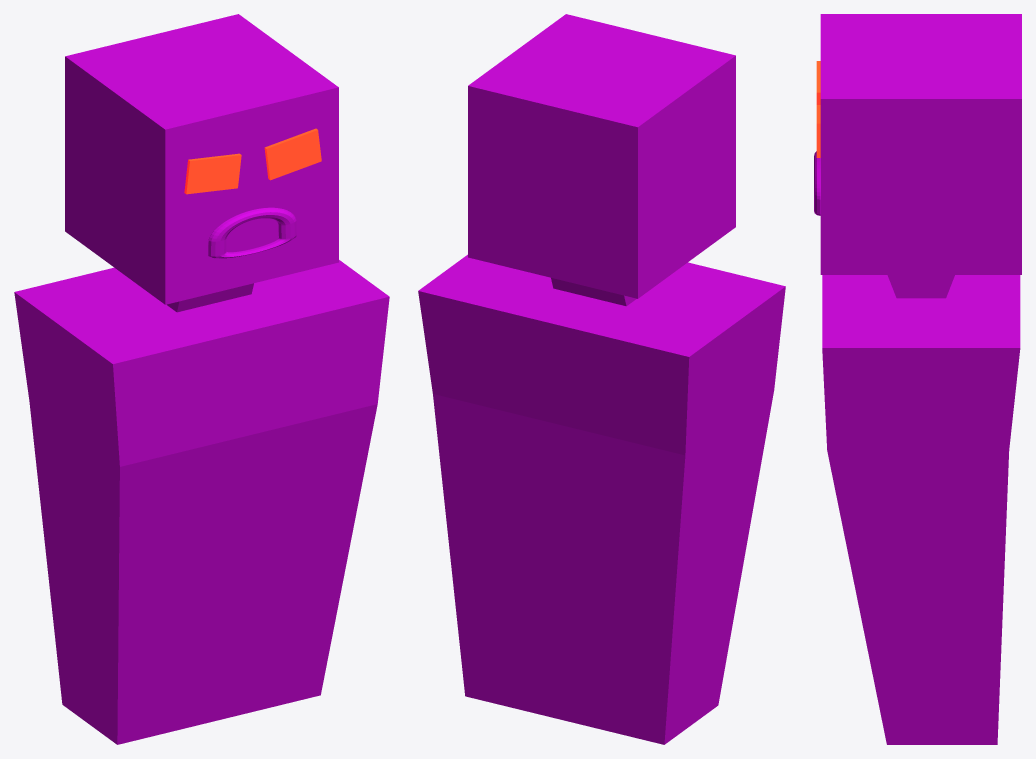
Rendered from Ghost FBX.fbx.
3 renders of one model, left to right at view 1: azimuth 30°, elevation 25°; view 2: azimuth 150°, elevation 25°; view 3: azimuth 270°, elevation 25°, orthographic. The views are drawn at different scales.
Visible parts, largest first — view 1: GhostObj; view 2: GhostObj; view 3: GhostObj.
Boxes of the visible parts, left/top/right/bottom form: GhostObj: left=14, top=14, right=389, bottom=744; GhostObj: left=418, top=14, right=785, bottom=744; GhostObj: left=814, top=14, right=1021, bottom=744.
Size of the model in its own units: 68.01 by 149 by 44.05.
